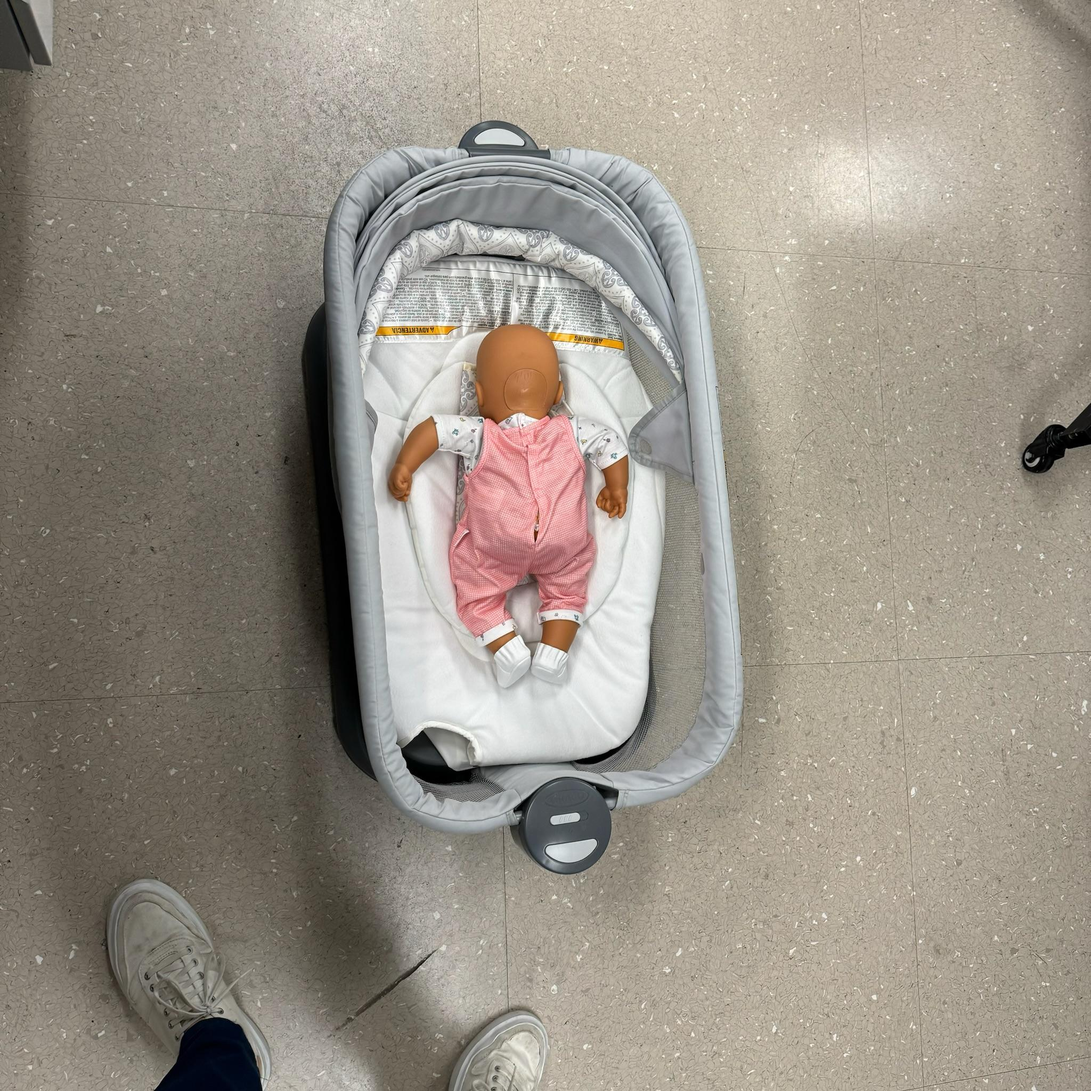baby: (384, 314, 642, 693)
